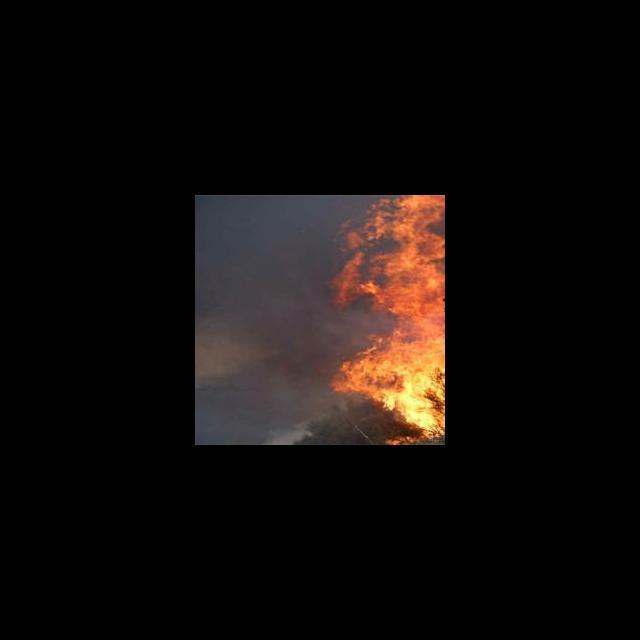Fire: (323, 195, 444, 444)
